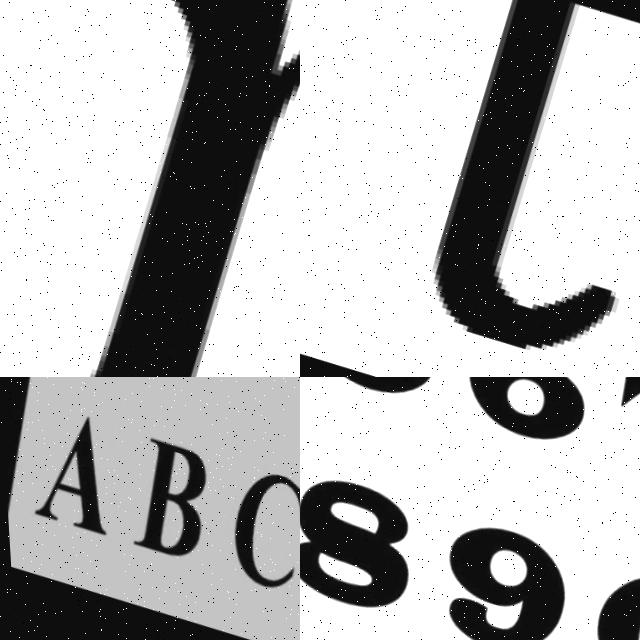0: (556, 544, 640, 640)
5: (300, 377, 479, 424)
6: (433, 377, 630, 468)
7: (574, 377, 640, 512)
8: (300, 452, 448, 638)
9: (408, 504, 593, 640)
R: (0, 0, 300, 377)
T: (318, 0, 640, 377)
